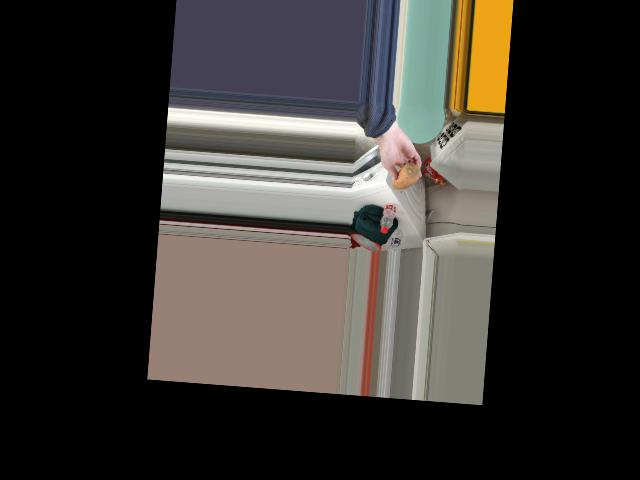sweet_potato: (388, 157, 418, 191)
